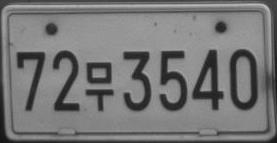0: (229, 48, 258, 111)
2: (51, 48, 80, 111)
3: (122, 50, 152, 112)
4: (191, 48, 225, 111)
5: (159, 49, 188, 112)
7: (16, 51, 46, 111)
무: (85, 61, 114, 112)
